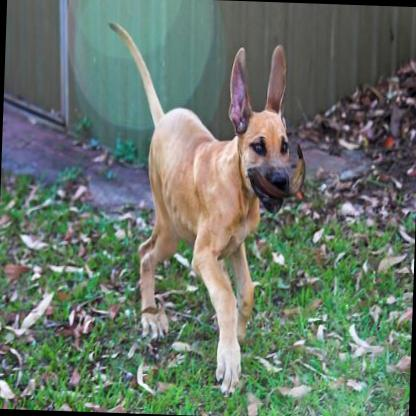Great_Dane: (92, 18, 296, 400)
